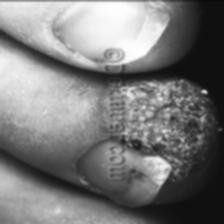Toxin: (121, 78, 220, 184)
